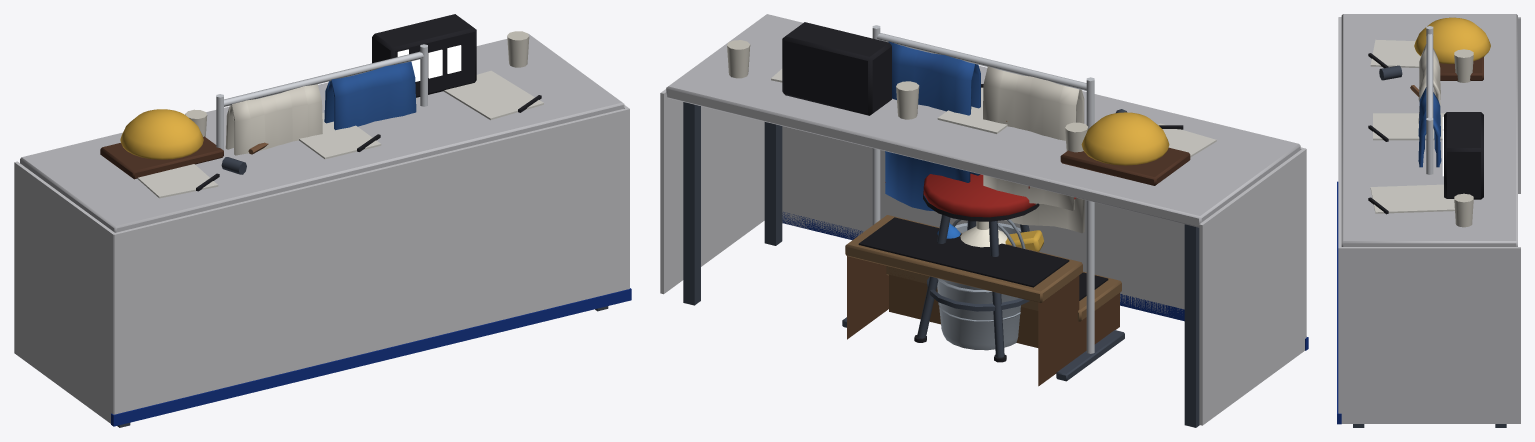
The model's file is gloryland-ring-props.glb.
The picture shows the model from 3 angles, left to right: view 1: azimuth 30°, elevation 25°; view 2: azimuth 150°, elevation 25°; view 3: azimuth 270°, elevation 25°; orthographic projection. The views are drawn at different scales.
Visible parts, largest first — view 1: Judges_table, Towel_rack, Timekeeper_table; view 2: Judges_table, Ring_steps, Towel_rack, Timekeeper_table, Ring_stool, Water_bucket, Spit_bucket; view 3: Judges_table, Timekeeper_table, Towel_rack.
Boxes of the visible parts, x1,y1,x2,y2 form: Judges_table: (14,31,631,427); Towel_rack: (216,44,427,155); Timekeeper_table: (100,14,476,179); Judges_table: (660,14,1308,427); Ring_steps: (845,215,1121,386); Towel_rack: (842,25,1124,381); Timekeeper_table: (782,22,1190,185); Ring_stool: (914,173,1039,362); Water_bucket: (937,219,1043,350); Spit_bucket: (952,219,1015,247); Judges_table: (1337,14,1520,427); Timekeeper_table: (1379,17,1490,199); Towel_rack: (1418,26,1441,174).
Size of the model in its own units: 1.93 by 0.9525 by 0.646.
